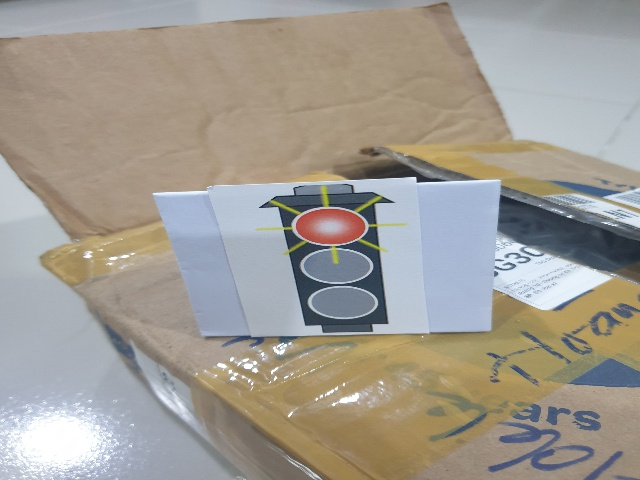Red Light: (247, 184, 414, 335)
